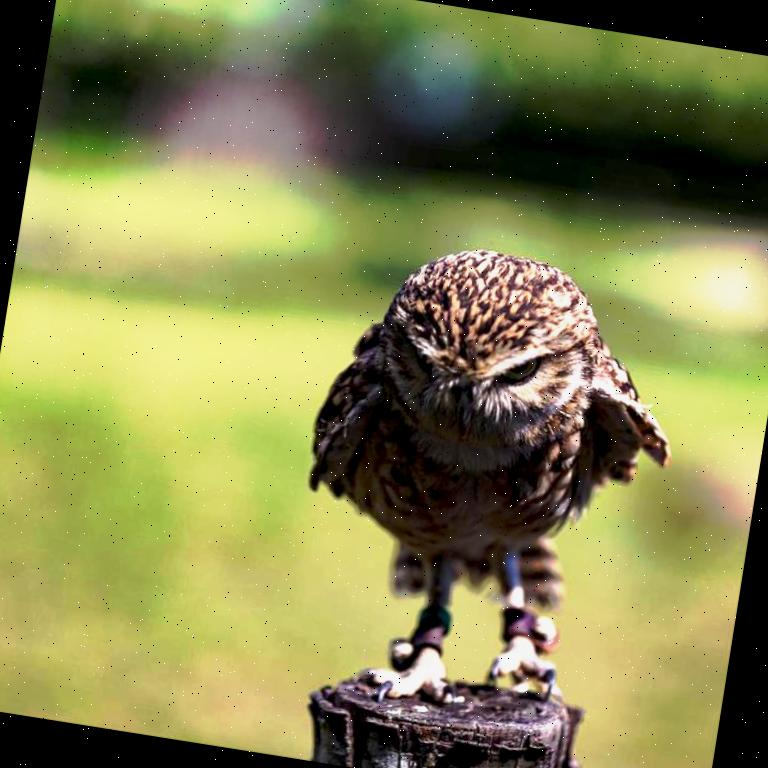Owl: (266, 228, 700, 740)
